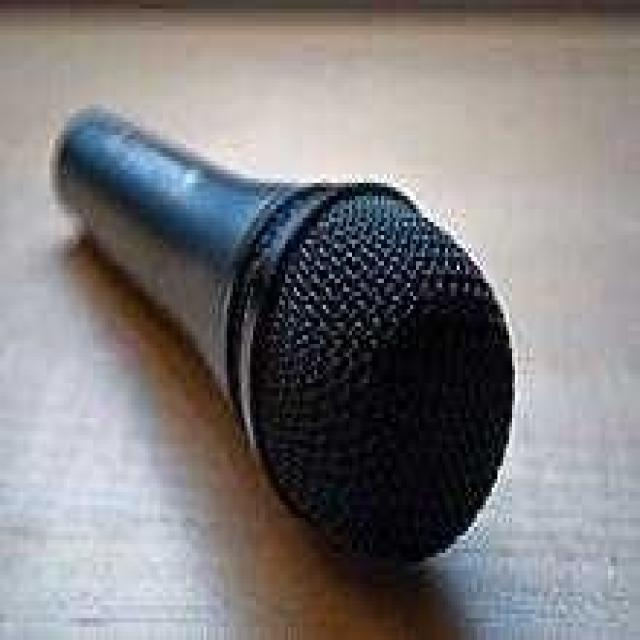microphone: (76, 78, 525, 629)
